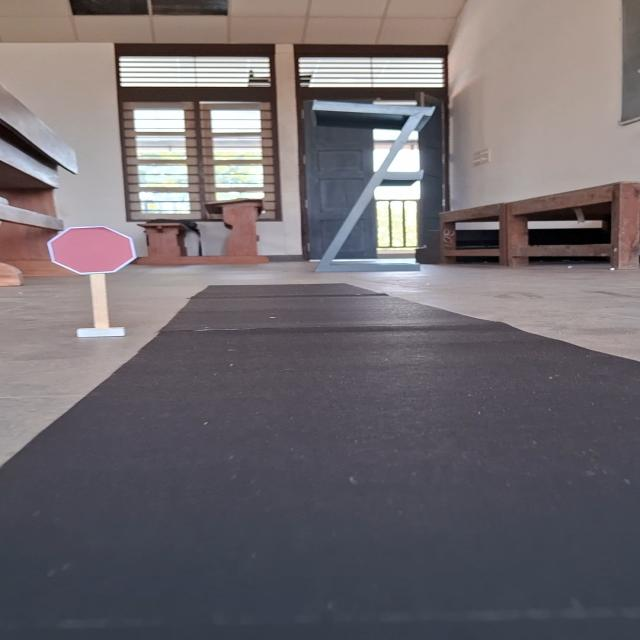Stop: (46, 225, 138, 276)
